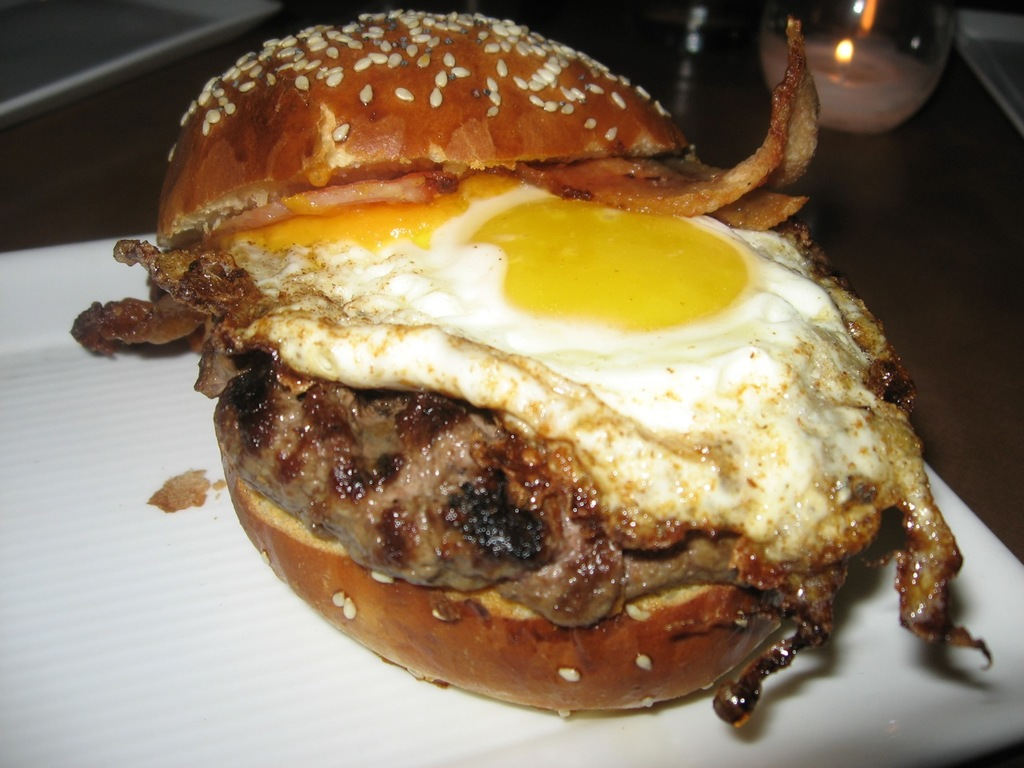Hamburger: (71, 13, 996, 728)
